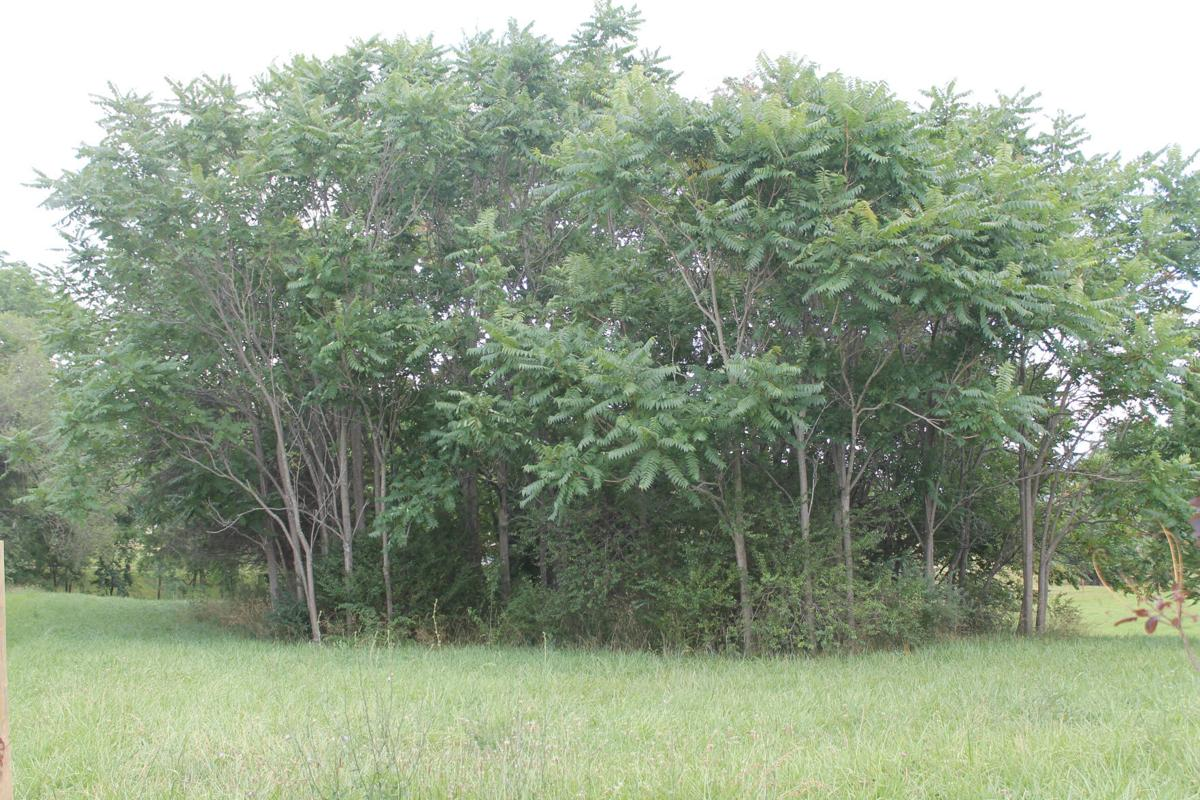plants: (149, 97, 1200, 633), (3, 258, 149, 587)
